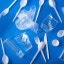plastic: (14, 32, 32, 52)
